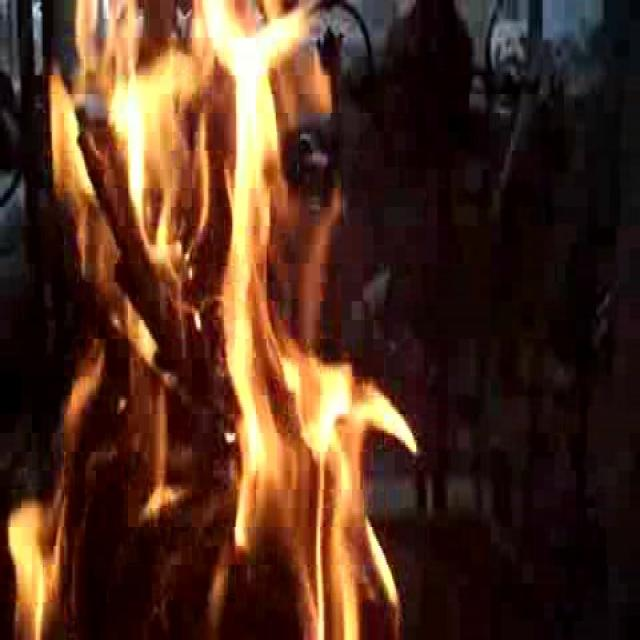fire: (38, 1, 374, 622)
